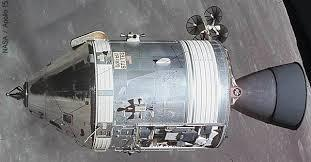antenna: (186, 15, 204, 36), (204, 6, 223, 25), (5, 85, 26, 102), (213, 25, 229, 43)
body: (24, 38, 233, 153)
thruster: (231, 61, 308, 130), (137, 97, 143, 107), (138, 110, 143, 120), (145, 106, 154, 111), (119, 32, 128, 37), (139, 33, 147, 38), (126, 107, 134, 111), (132, 34, 137, 39), (135, 150, 142, 153), (128, 31, 134, 34), (128, 152, 132, 156)
